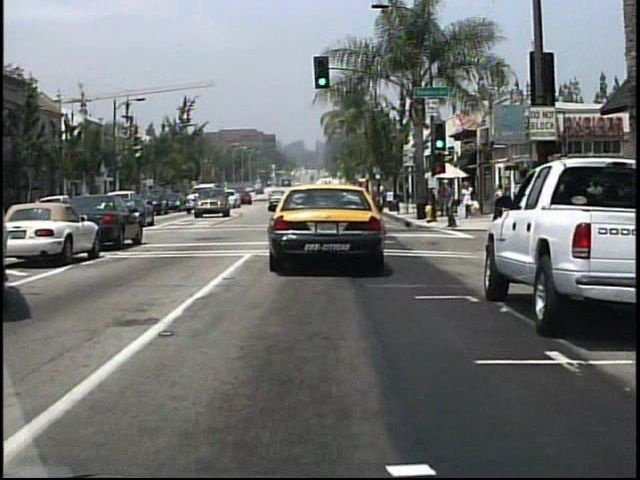person: (444, 182, 460, 231), (462, 180, 477, 218), (437, 182, 451, 218)
